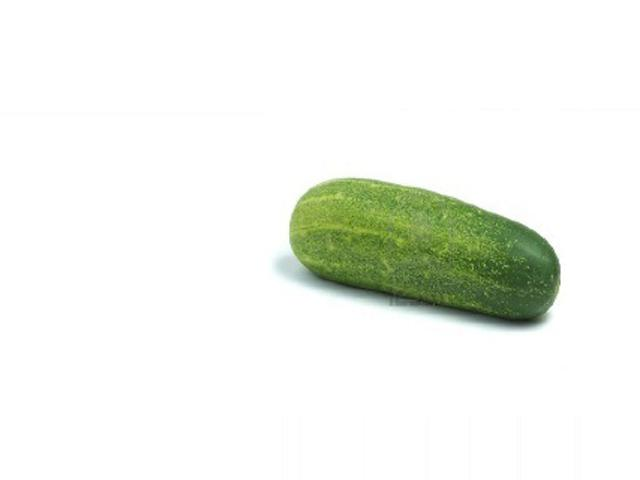cucumber: (289, 178, 559, 321)
